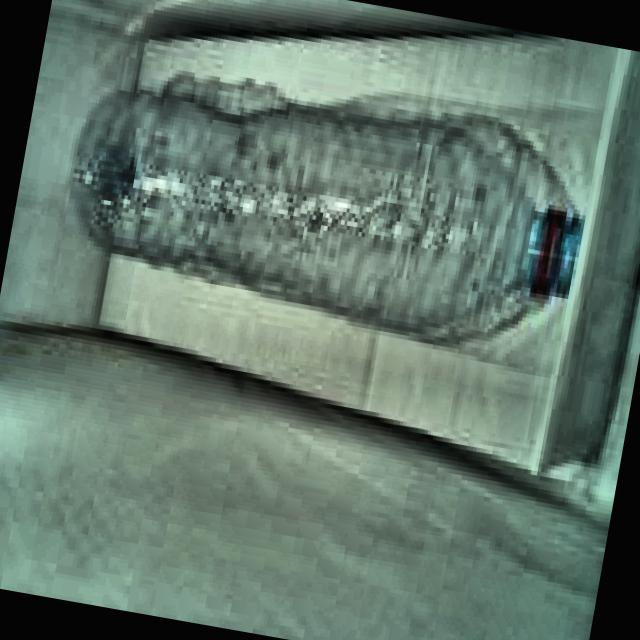plastic bottle: (76, 93, 583, 338)
